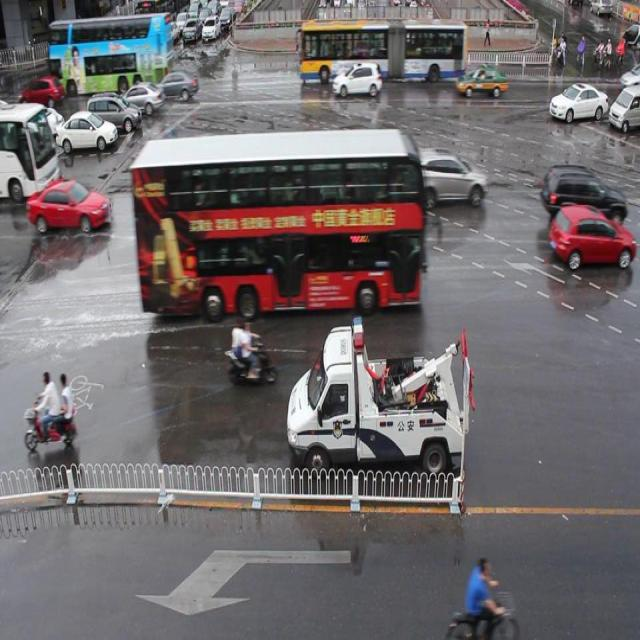car: (546, 203, 632, 272), (540, 163, 624, 223), (409, 144, 486, 204), (29, 180, 108, 230), (547, 80, 606, 124), (331, 62, 382, 98), (455, 63, 506, 98)
van: (134, 129, 420, 308), (298, 18, 466, 84)
